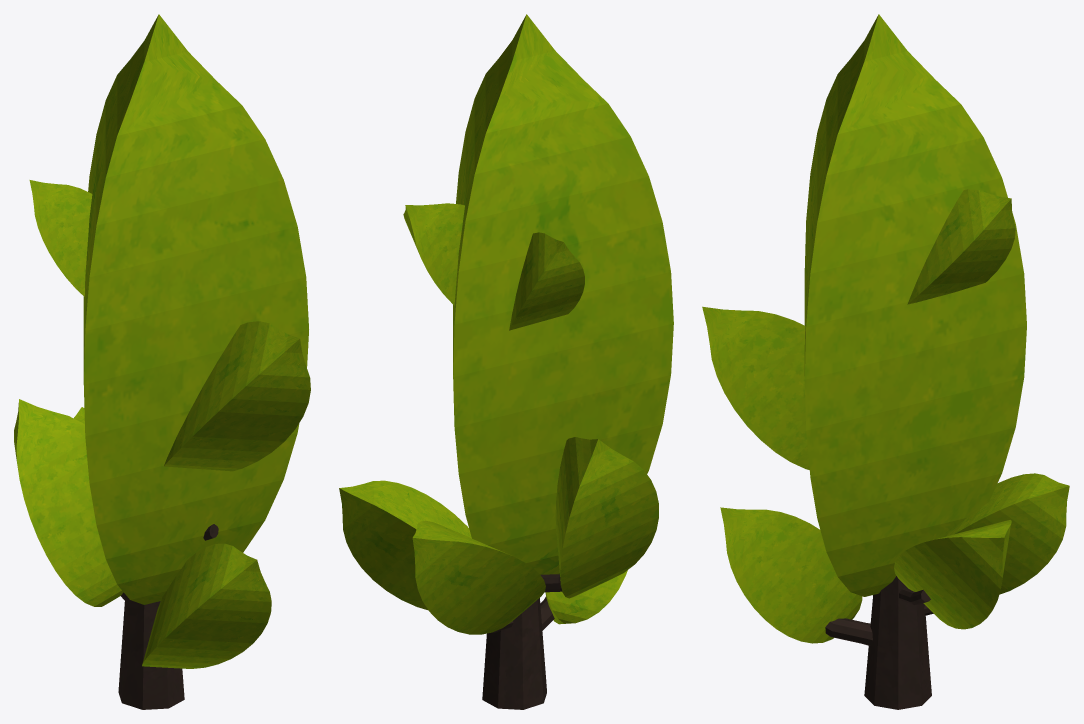
File: tree-bright-green-flowers_4.fbx
3 renders of one model, left to right at view 1: azimuth 30°, elevation 25°; view 2: azimuth 150°, elevation 25°; view 3: azimuth 270°, elevation 25°, orthographic. The views are drawn at different scales.
Parts seen in each view (by area): view 1: Icosphere.089; view 2: Icosphere.089; view 3: Icosphere.089.
Part boxes in pixels (<box>): Icosphere.089: <box>14,14,310,709</box>; Icosphere.089: <box>339,14,673,709</box>; Icosphere.089: <box>702,14,1069,709</box>.
Size of the model in its own units: 154 by 389 by 190.
